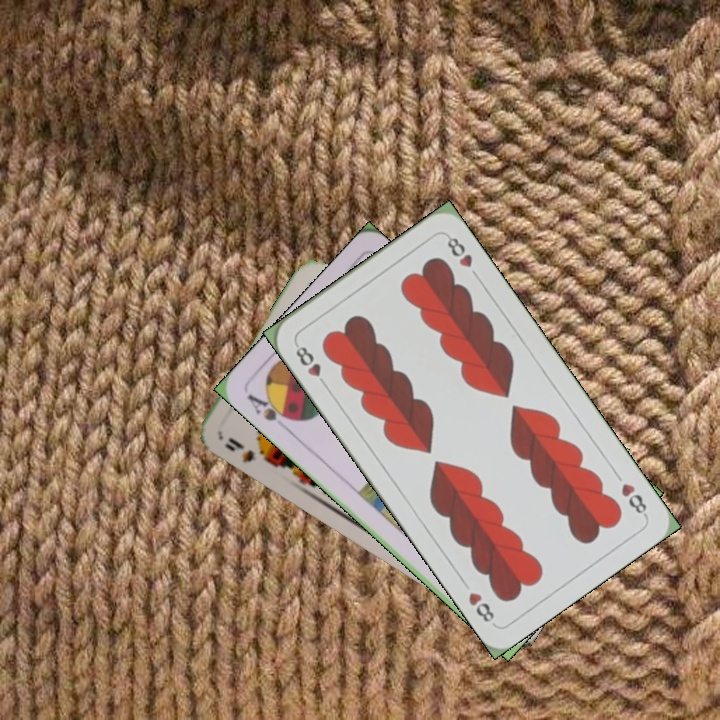H8: (291, 339, 331, 391), (617, 479, 650, 520)
S9: (220, 433, 273, 466)
SA: (243, 389, 298, 433)
